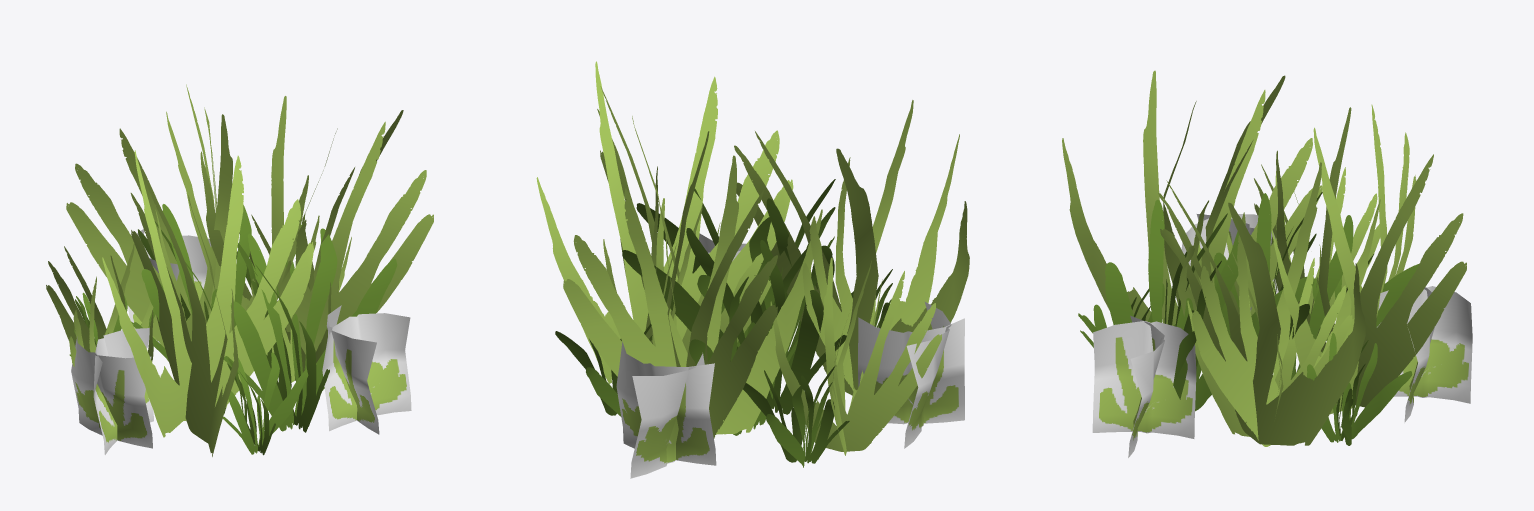
File: Grass_4.fbx
The picture shows the model from 3 angles, left to right: view 1: azimuth 30°, elevation 25°; view 2: azimuth 150°, elevation 25°; view 3: azimuth 270°, elevation 25°; orthographic projection. The views are drawn at different scales.
Visible parts, largest first — view 1: Grass_group_4; view 2: Grass_group_4; view 3: Grass_group_4.
Boxes of the visible parts, bbox=[...] form: Grass_group_4: bbox=[46, 84, 433, 456]; Grass_group_4: bbox=[536, 61, 969, 478]; Grass_group_4: bbox=[1062, 70, 1472, 457].
Bounding box in the file's own units: 1.93 × 1.41 × 1.92.
